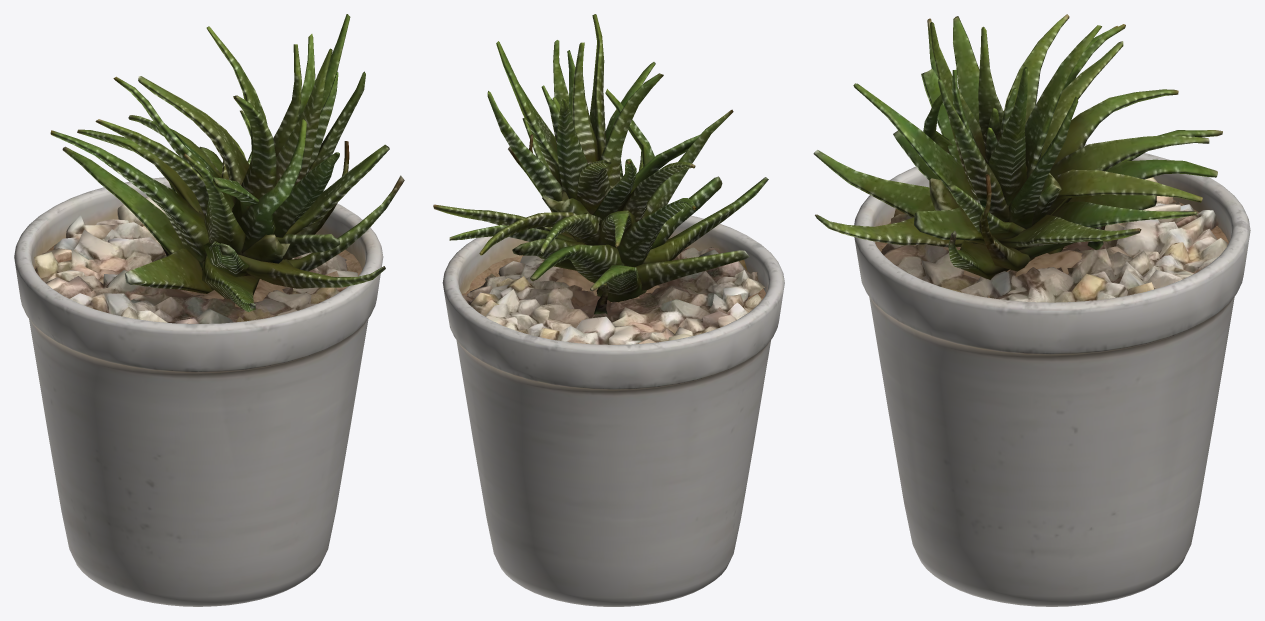
Rendered from plant.gltf.
3 views of the same model, side by side, from view 1: azimuth 30°, elevation 25°; view 2: azimuth 150°, elevation 25°; view 3: azimuth 270°, elevation 25° (orthographic). The views are drawn at different scales.
Parts seen in each view (by area): view 1: pot, plant, ground, dirt; view 2: pot, plant, ground, dirt; view 3: pot, plant, ground, dirt.
Part boxes in pixels (bbox=[...]): pot: bbox=[14, 177, 383, 606]; plant: bbox=[50, 14, 404, 311]; ground: bbox=[34, 196, 357, 323]; dirt: bbox=[34, 238, 362, 307]; pot: bbox=[442, 215, 784, 606]; plant: bbox=[433, 14, 768, 314]; ground: bbox=[463, 247, 765, 344]; dirt: bbox=[462, 247, 765, 306]; pot: bbox=[854, 144, 1250, 606]; plant: bbox=[813, 14, 1222, 279]; ground: bbox=[881, 177, 1227, 302]; dirt: bbox=[875, 200, 1228, 297].
Size of the model in its own units: 0.1679 by 0.2675 by 0.1848.
Materials: 1 (1 with a texture image).
